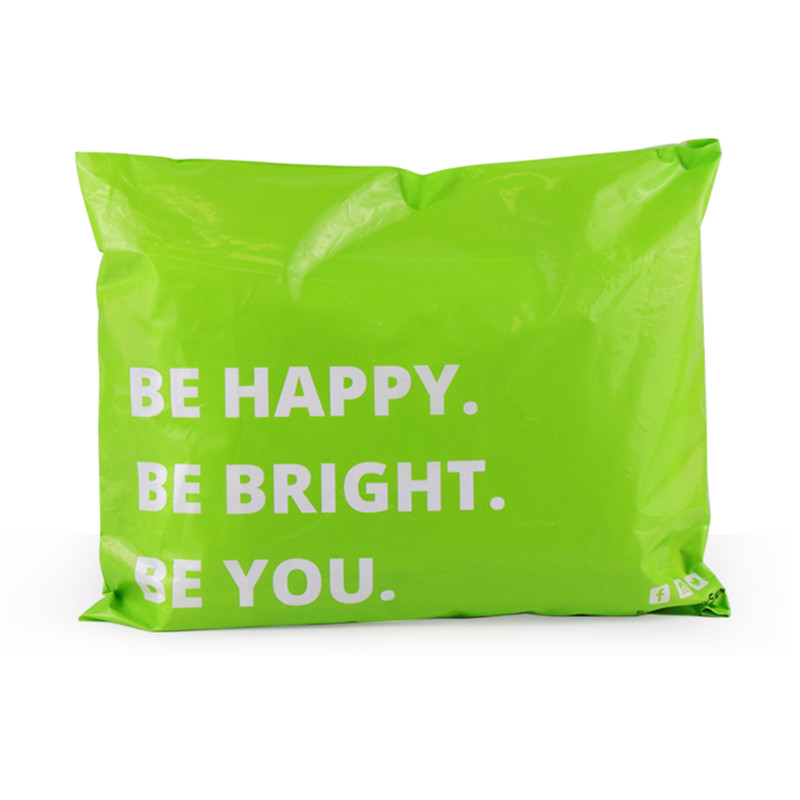塑料袋: (76, 139, 728, 631)
